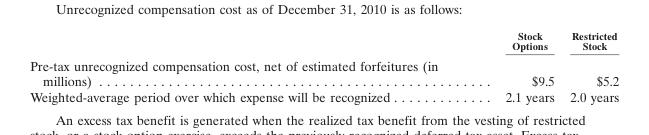table: (29, 28, 618, 103)
table column: (29, 28, 470, 103), (470, 28, 561, 103), (561, 28, 618, 103)
table column header: (29, 28, 618, 54)
table row: (29, 54, 618, 88), (29, 28, 618, 54), (29, 88, 618, 103)
